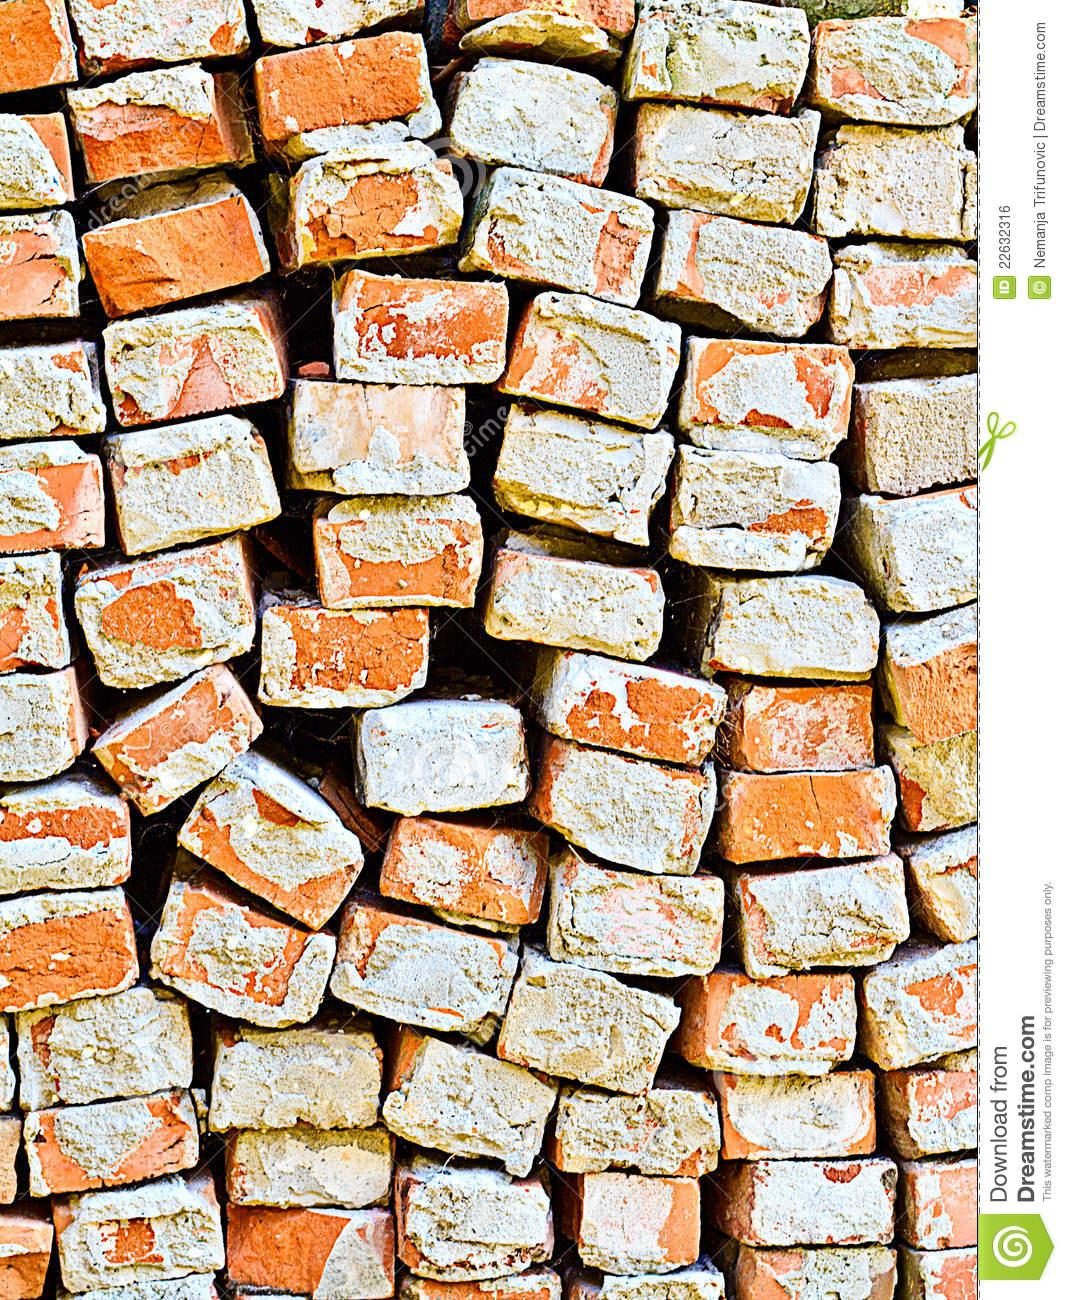brick: (176, 766, 363, 927), (73, 539, 255, 689), (459, 166, 654, 306), (151, 877, 335, 1025), (329, 903, 518, 1044), (497, 951, 681, 1095), (92, 664, 264, 816), (494, 403, 675, 546), (383, 1029, 559, 1176), (499, 293, 681, 430), (108, 414, 283, 555), (532, 741, 717, 875), (83, 193, 271, 315), (256, 31, 443, 153), (656, 211, 833, 337), (636, 105, 822, 222), (667, 445, 840, 571), (735, 854, 910, 978), (104, 306, 284, 425), (17, 987, 191, 1110), (449, 57, 616, 185), (289, 378, 471, 495), (543, 650, 728, 764), (295, 140, 463, 266), (679, 340, 853, 460), (485, 547, 666, 662), (549, 858, 724, 976), (627, 0, 808, 113), (394, 1154, 553, 1282), (54, 1177, 225, 1292), (355, 700, 526, 815), (333, 271, 507, 384), (69, 63, 233, 181), (315, 495, 484, 608), (380, 817, 549, 931), (815, 123, 977, 238), (210, 1027, 383, 1133), (702, 575, 878, 679), (813, 16, 978, 125), (24, 1094, 199, 1196), (258, 605, 429, 707), (720, 764, 896, 863), (1, 891, 140, 1014), (690, 974, 856, 1073), (228, 1201, 393, 1299), (830, 243, 976, 348), (855, 370, 978, 493), (864, 939, 977, 1070), (555, 1091, 719, 1177), (720, 1069, 876, 1159), (739, 1157, 897, 1245), (0, 795, 131, 892), (226, 1129, 391, 1206), (575, 1173, 699, 1274), (879, 486, 977, 611), (70, 0, 249, 67), (737, 685, 873, 772), (1, 453, 106, 554), (0, 342, 106, 439), (0, 209, 81, 320), (0, 667, 77, 783), (735, 1246, 891, 1300), (1, 553, 69, 676), (0, 0, 78, 94), (0, 112, 75, 208)
